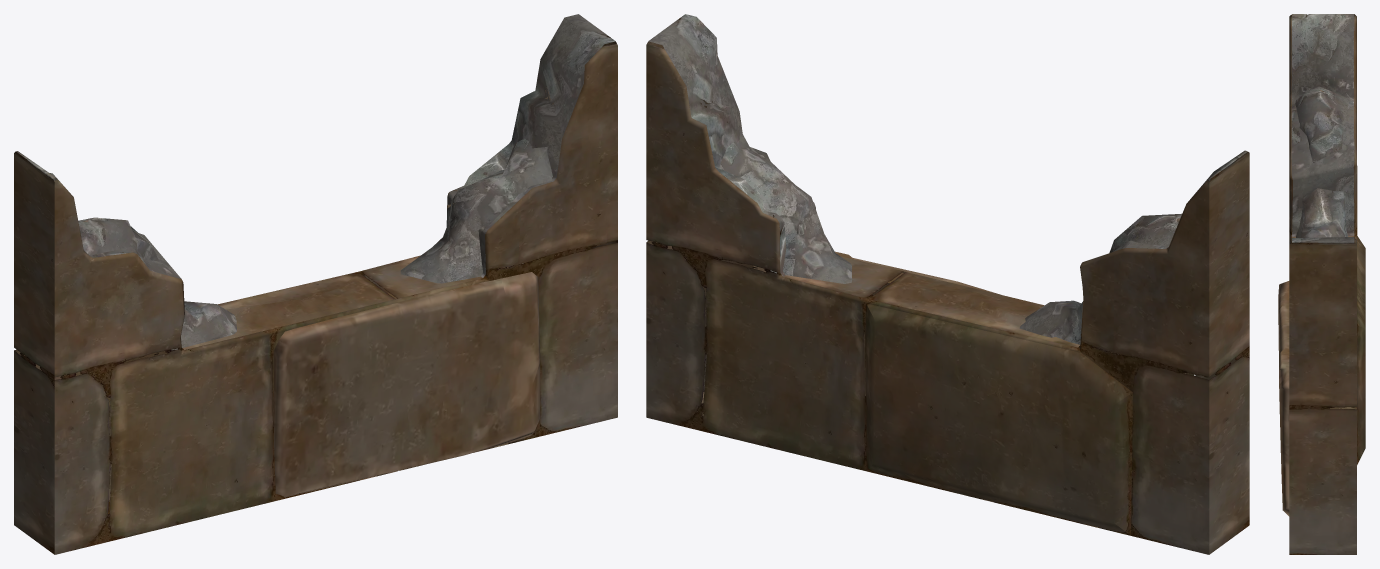
3 renders of one model, left to right at view 1: azimuth 30°, elevation 25°; view 2: azimuth 150°, elevation 25°; view 3: azimuth 270°, elevation 25°, orthographic. The views are drawn at different scales.
Parts seen in each view (by area): view 1: SM_Vault_4x2m_Wall_Dmg_01_V2_LOD0; view 2: SM_Vault_4x2m_Wall_Dmg_01_V2_LOD0; view 3: SM_Vault_4x2m_Wall_Dmg_01_V2_LOD0.
Boxes of the visible parts, x1=… form: SM_Vault_4x2m_Wall_Dmg_01_V2_LOD0: x1=14, y1=14, x2=617, y2=554; SM_Vault_4x2m_Wall_Dmg_01_V2_LOD0: x1=646, y1=14, x2=1249, y2=554; SM_Vault_4x2m_Wall_Dmg_01_V2_LOD0: x1=1278, y1=14, x2=1365, y2=554.
Size of the model in its own units: 4 by 2.55 by 0.6455.
3 materials, 3 textured.
